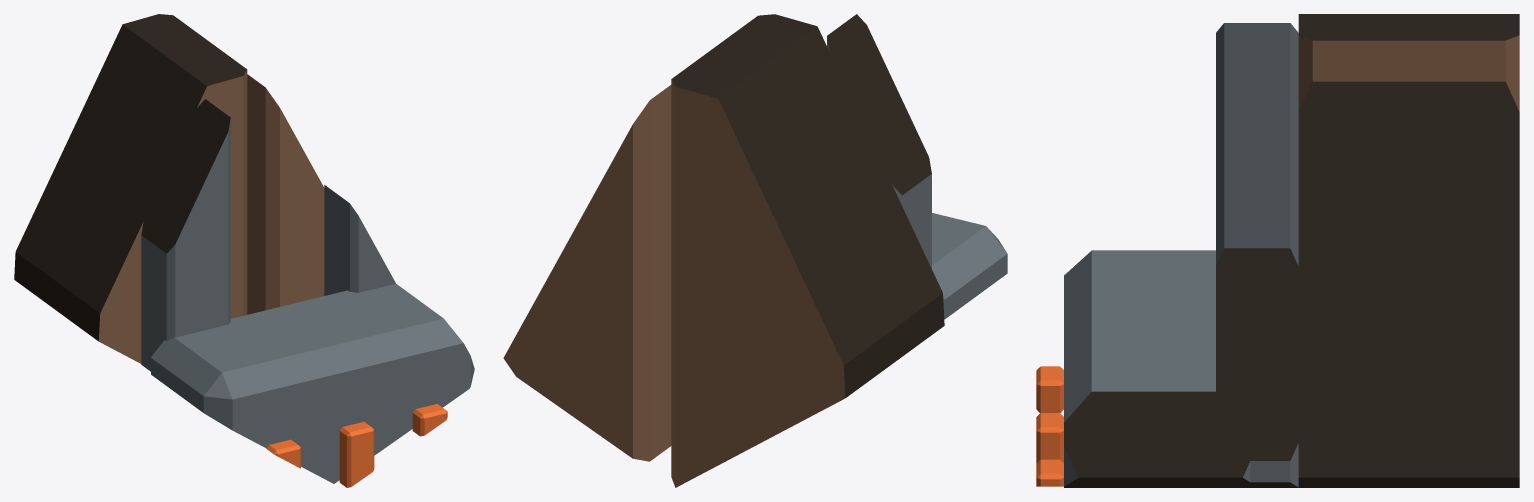
Rendered from SM_DoorShard_03_07.fbx.
3 views of the same model, side by side, from view 1: azimuth 30°, elevation 25°; view 2: azimuth 150°, elevation 25°; view 3: azimuth 270°, elevation 25° (orthographic). The views are drawn at different scales.
Parts seen in each view (by area): view 1: SM_DoorShard_03_07; view 2: SM_DoorShard_03_07; view 3: SM_DoorShard_03_07.
Boxes of the visible parts, bbox=[...] form: SM_DoorShard_03_07: bbox=[14, 14, 474, 487]; SM_DoorShard_03_07: bbox=[503, 14, 1007, 487]; SM_DoorShard_03_07: bbox=[1036, 14, 1519, 487].
Bounding box in the file's own units: 31.85 × 35 × 35.79.
